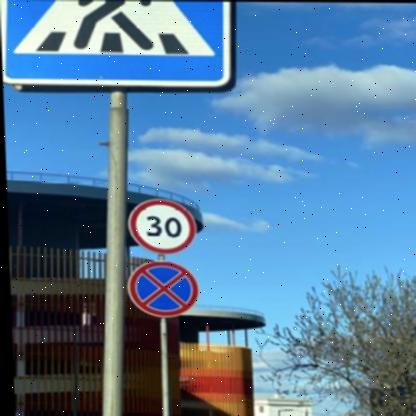Speed Limit -30-: (125, 194, 194, 255)
